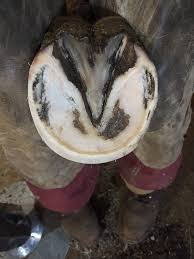horsesole: (27, 33, 158, 164)
